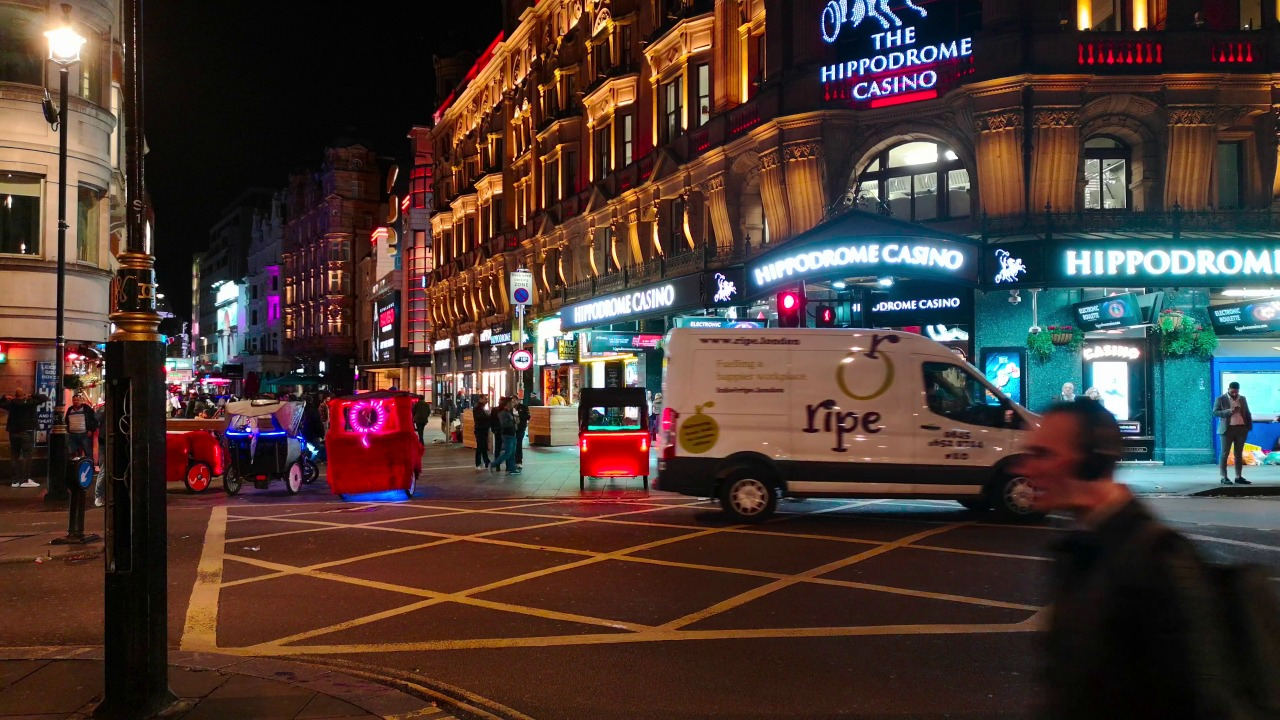car: (674, 326, 997, 489), (325, 396, 420, 494), (236, 395, 309, 499), (580, 389, 647, 492), (164, 417, 211, 500)
person: (1027, 393, 1221, 710), (1, 383, 40, 494), (1223, 380, 1260, 493), (57, 380, 92, 458), (494, 399, 514, 468), (518, 400, 530, 470), (475, 400, 486, 466), (420, 396, 426, 438)
